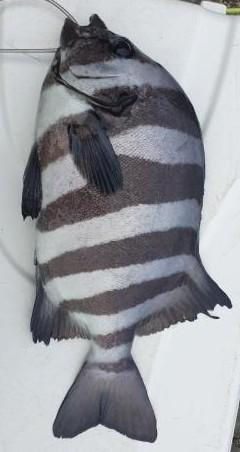fish: (20, 14, 232, 446)
